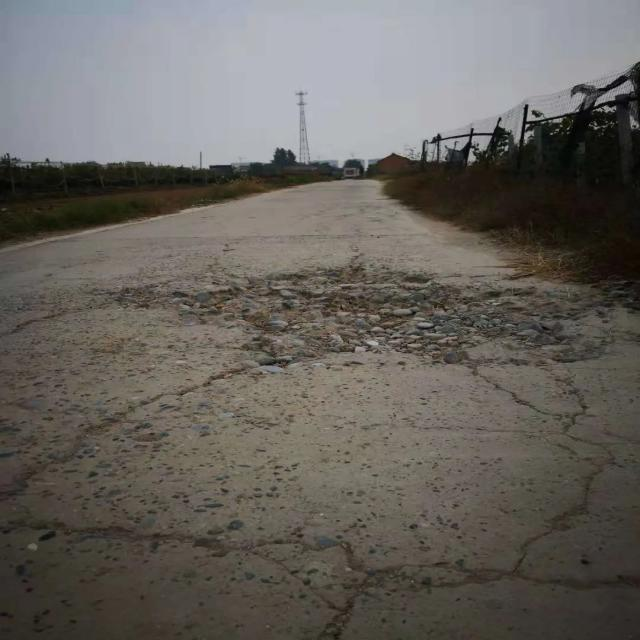Pothole: (147, 263, 598, 372)
